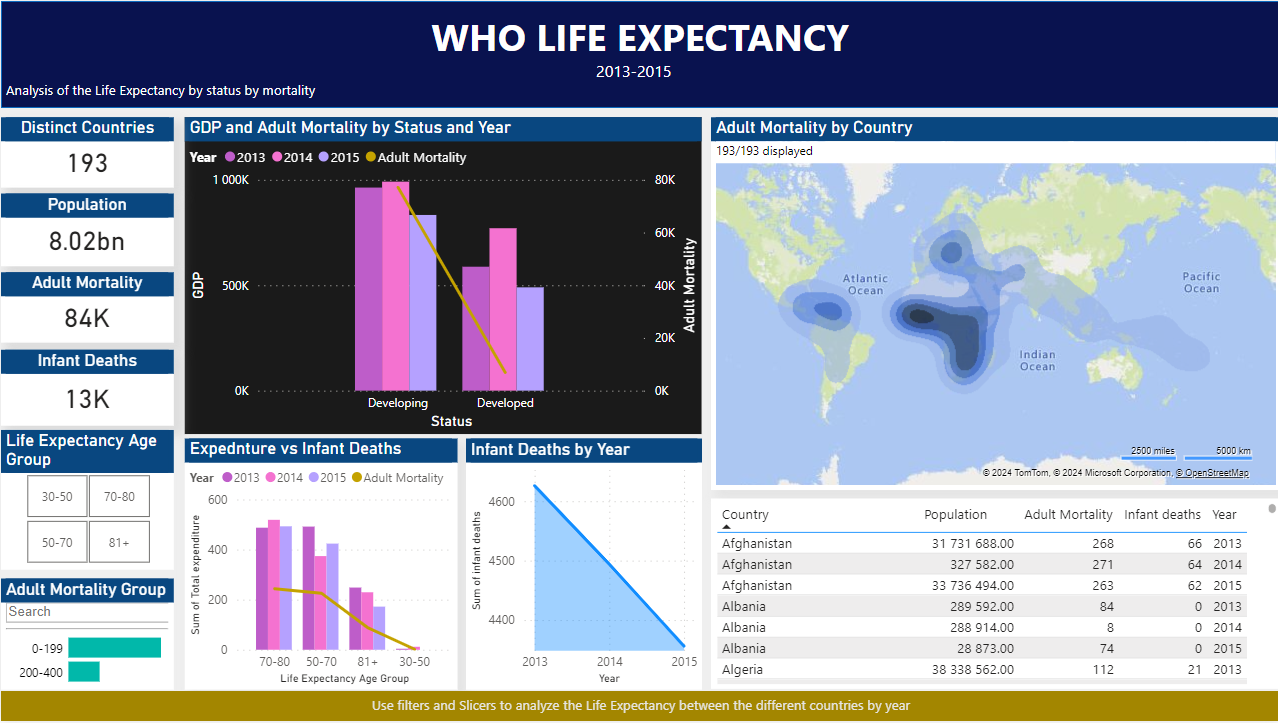

Layout of this report page (visuals, bound fields, positions):
{"tool":"powerbi","page":{"name":"Mortality","canvas":[1280,720],"ordinal":3},"visuals":[{"type":"shape","box":[0,0,1280.2,107],"z":0},{"type":"textbox","box":[403.5,4.7,470.9,70.9],"z":1000},{"type":"textbox","box":[0,75.6,534.9,40.7],"z":2000},{"type":"textbox","box":[589.5,53.5,223.3,34.9],"z":3000},{"type":"heatmapF244EA9EE1F34E828A80CF19B41976F8","title":"Adult Mortality by Country","fields":{"location":["Sheet1.Country"],"value":["Max(Sheet1.Adult Mortality)"]},"box":[710,115.7,570,372.9],"z":4000},{"type":"lineClusteredColumnComboChart","title":"GDP and Adult Mortality by Status and Year","fields":{"Series":["Sheet1.Year"],"Y":["Sum(Sheet1.GDP)"],"Category":["Sheet1.Status"],"Y2":["Sum(Sheet1.Adult Mortality)"]},"box":[184.3,115.7,517.1,317.1],"z":5000},{"type":"lineClusteredColumnComboChart","title":"Expednture vs Infant Deaths","fields":{"Y":["Sum(Sheet1.Total expenditure)"],"Series":["Sheet1.Year"],"Category":["Sheet1.LifeExp_Groups"],"Y2":["CountNonNull(Sheet1.Adult_Mortality_Groups)"]},"box":[183.8,437.5,272.5,251.2],"z":6000},{"type":"card","title":"Distinct Countries","fields":{"Values":["Count(Sheet1.Country)"]},"box":[0,115.7,172.9,70],"z":7000},{"type":"card","title":"Population","fields":{"Values":["Sum(Sheet1.Population)"]},"box":[0,192.5,172.5,72.5],"z":8000},{"type":"card","title":"Adult Mortality","fields":{"Values":["Sum(Sheet1.Adult Mortality)"]},"box":[0,271.2,172.5,70],"z":9000},{"type":"card","title":"Infant Deaths","fields":{"Values":["Sum(Sheet1.infant deaths)"]},"box":[0,348.8,172.5,76.2],"z":10000},{"type":"tableEx","fields":{"Values":["Sheet1.Country","Sum(Sheet1.Population)","Sum(Sheet1.Adult Mortality)","Sum(Sheet1.infant deaths)","Sheet1.Year"]},"box":[709.4,498.1,570.8,190.7],"z":11000},{"type":"textbox","box":[0,690,1280,30],"z":12000},{"type":"areaChart","title":"Infant Deaths by Year","fields":{"Y":["Sum(Sheet1.infant deaths)"],"Category":["Sheet1.Year"]},"box":[465,437.5,236.2,251.2],"z":13000},{"type":"slicer","title":"Life Expectancy Age Group","fields":{"Values":["Sheet1.LifeExp_Groups"]},"box":[0,428.8,172.5,140],"z":14000},{"type":"AttributeSlicer1652434005853","title":"Adult Mortality Group","fields":{"Category":["Sheet1.Adult_Mortality_Groups"],"Values":["CountNonNull(Sheet1.Adult_Mortality_Groups)"]},"box":[0,577.5,172.5,111.2],"z":15000}]}

Visuals, with their boxes in screenshot pixels (x1, y1, x2, y2), scaled from the page's 1280x720 canvas onto the 1278x723 screenshot:
shape: x1=0, y1=0, x2=1277, y2=107
textbox: x1=403, y1=5, x2=873, y2=76
textbox: x1=0, y1=76, x2=534, y2=117
textbox: x1=589, y1=54, x2=812, y2=89
"Adult Mortality by Country" heatmapF244EA9EE1F34E828A80CF19B41976F8: x1=709, y1=116, x2=1277, y2=491
"GDP and Adult Mortality by Status and Year" lineClusteredColumnComboChart: x1=184, y1=116, x2=700, y2=435
"Expednture vs Infant Deaths" lineClusteredColumnComboChart: x1=184, y1=439, x2=456, y2=692
"Distinct Countries" card: x1=0, y1=116, x2=173, y2=186
"Population" card: x1=0, y1=193, x2=172, y2=266
"Adult Mortality" card: x1=0, y1=272, x2=172, y2=343
"Infant Deaths" card: x1=0, y1=350, x2=172, y2=427
tableEx - Sheet1.Country x Sum(Sheet1.Population): x1=708, y1=500, x2=1277, y2=692
textbox: x1=0, y1=693, x2=1277, y2=722
"Infant Deaths by Year" areaChart: x1=464, y1=439, x2=700, y2=692
"Life Expectancy Age Group" slicer: x1=0, y1=431, x2=172, y2=571
"Adult Mortality Group" AttributeSlicer1652434005853: x1=0, y1=580, x2=172, y2=692
